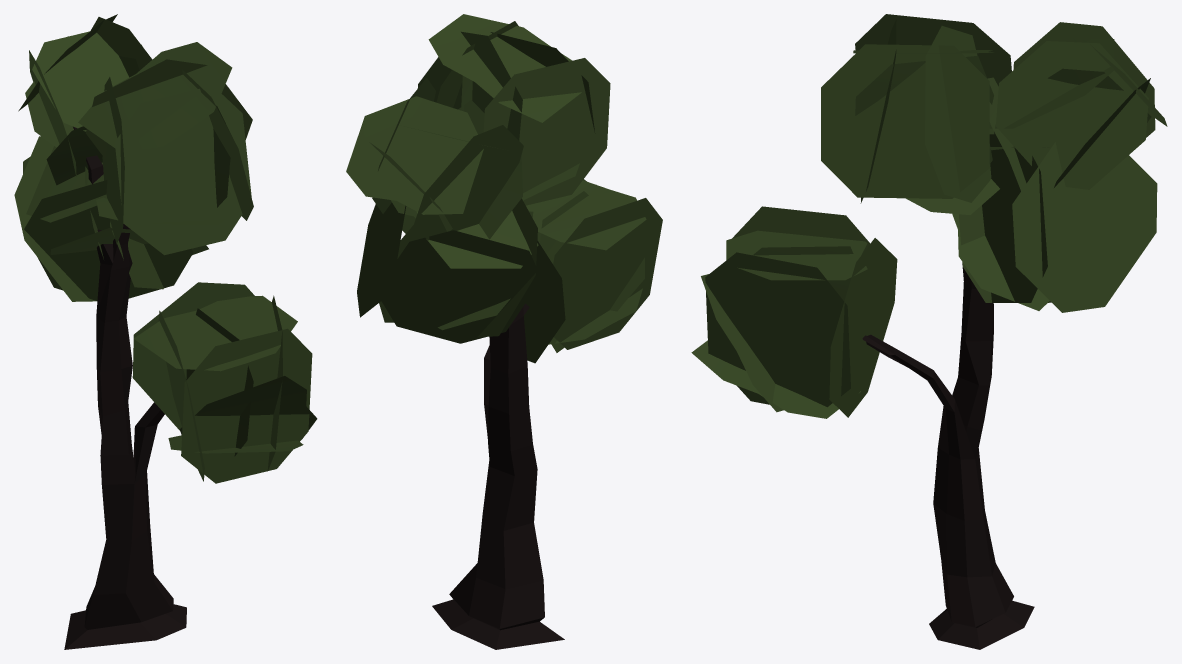
Rendered from tree_00.FBX.
3 views of the same model, side by side, from view 1: azimuth 30°, elevation 25°; view 2: azimuth 150°, elevation 25°; view 3: azimuth 270°, elevation 25° (orthographic). The views are drawn at different scales.
Visible parts, largest first — view 1: leaf_blob, tree_base_001; view 2: leaf_blob, tree_base_001; view 3: leaf_blob, tree_base_001.
Boxes of the visible parts, bbox=[...] form: leaf_blob: bbox=[14, 14, 317, 483]; tree_base_001: bbox=[64, 126, 186, 649]; leaf_blob: bbox=[346, 14, 662, 363]; tree_base_001: bbox=[432, 303, 564, 649]; leaf_blob: bbox=[691, 14, 1167, 418]; tree_base_001: bbox=[862, 264, 1034, 649].
Size of the model in its own units: 220 by 660 by 465.
